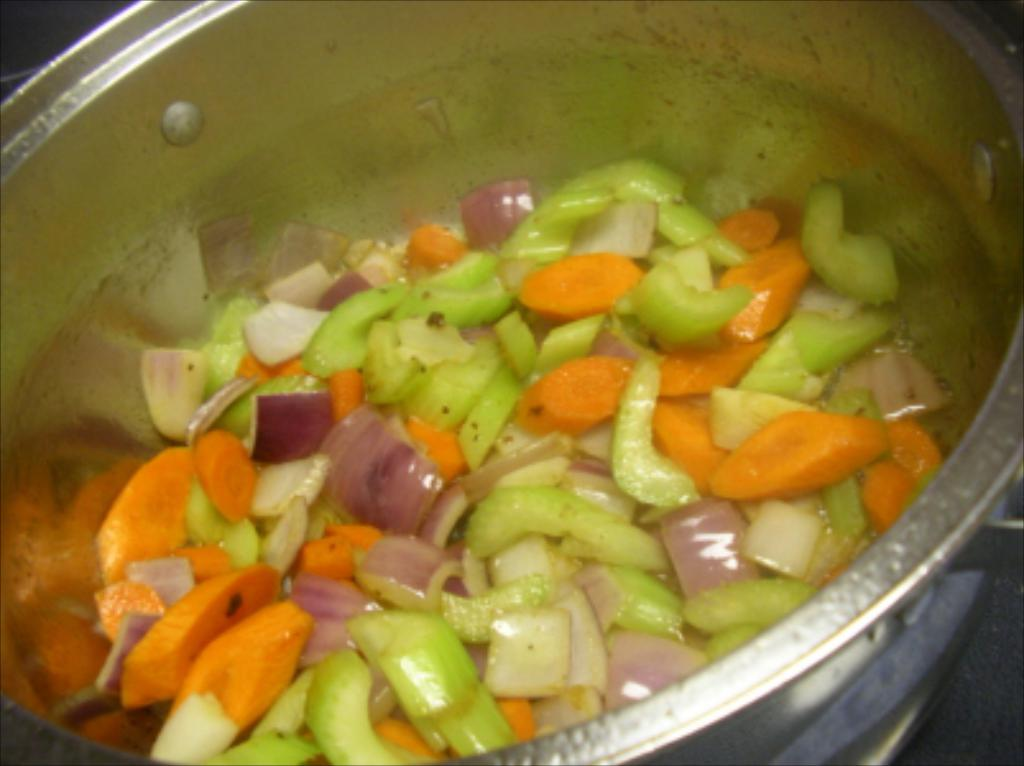Carrot: (81, 428, 319, 725), (707, 416, 891, 492), (531, 352, 653, 441), (515, 250, 643, 326), (720, 229, 814, 331), (651, 400, 727, 505), (653, 334, 773, 398), (858, 457, 914, 533), (298, 520, 383, 569), (413, 423, 469, 477), (403, 222, 469, 265), (888, 426, 947, 474), (717, 206, 781, 247), (245, 354, 306, 385), (329, 375, 360, 421)
